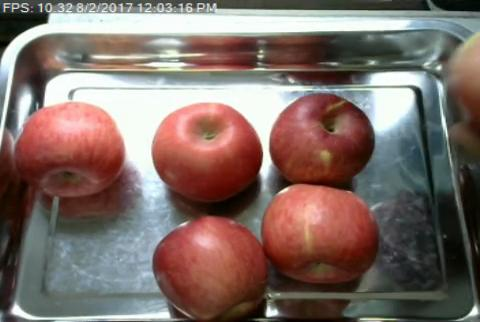apple: (263, 184, 379, 285), (153, 216, 266, 318), (151, 102, 263, 204), (15, 102, 126, 197), (270, 93, 376, 182)
